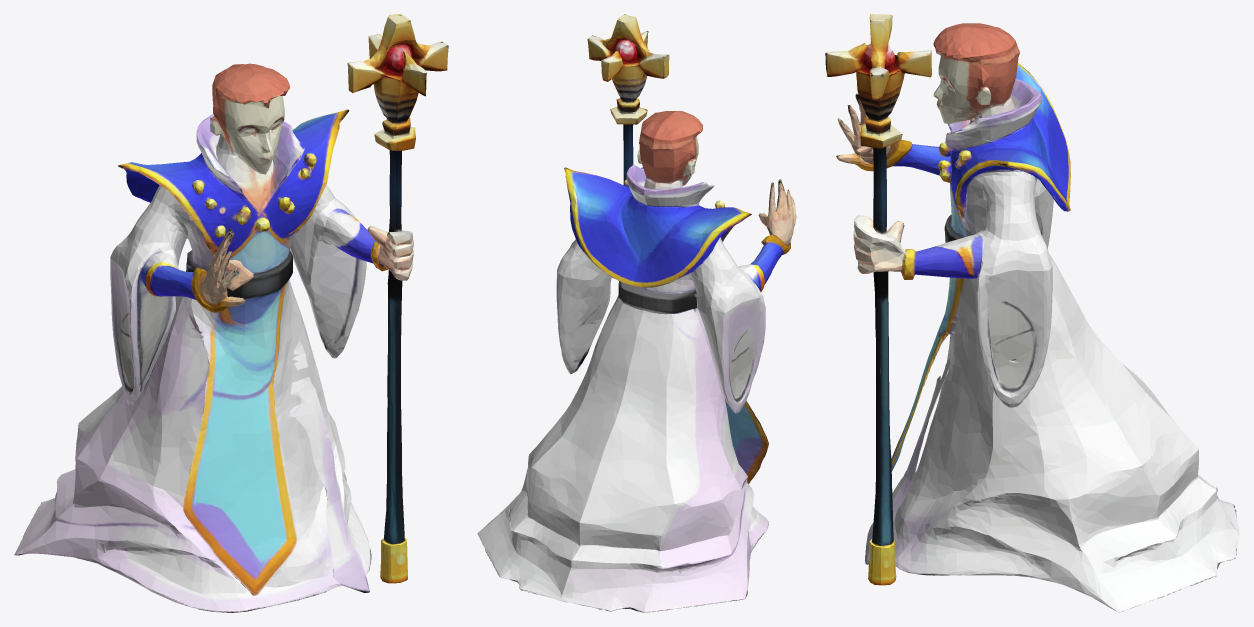
3 views of the same model, side by side, from view 1: azimuth 30°, elevation 25°; view 2: azimuth 150°, elevation 25°; view 3: azimuth 270°, elevation 25° (orthographic). The views are drawn at different scales.
Visible parts, largest first — view 1: world; view 2: world; view 3: world.
Boxes of the visible parts, x1,y1,x2,y2 form: world: (14,14,448,612); world: (477,14,796,612); world: (825,14,1239,612).
Size of the model in its own units: 0.6152 by 1 by 0.6647.
Materials: 1 (1 with a texture image).
